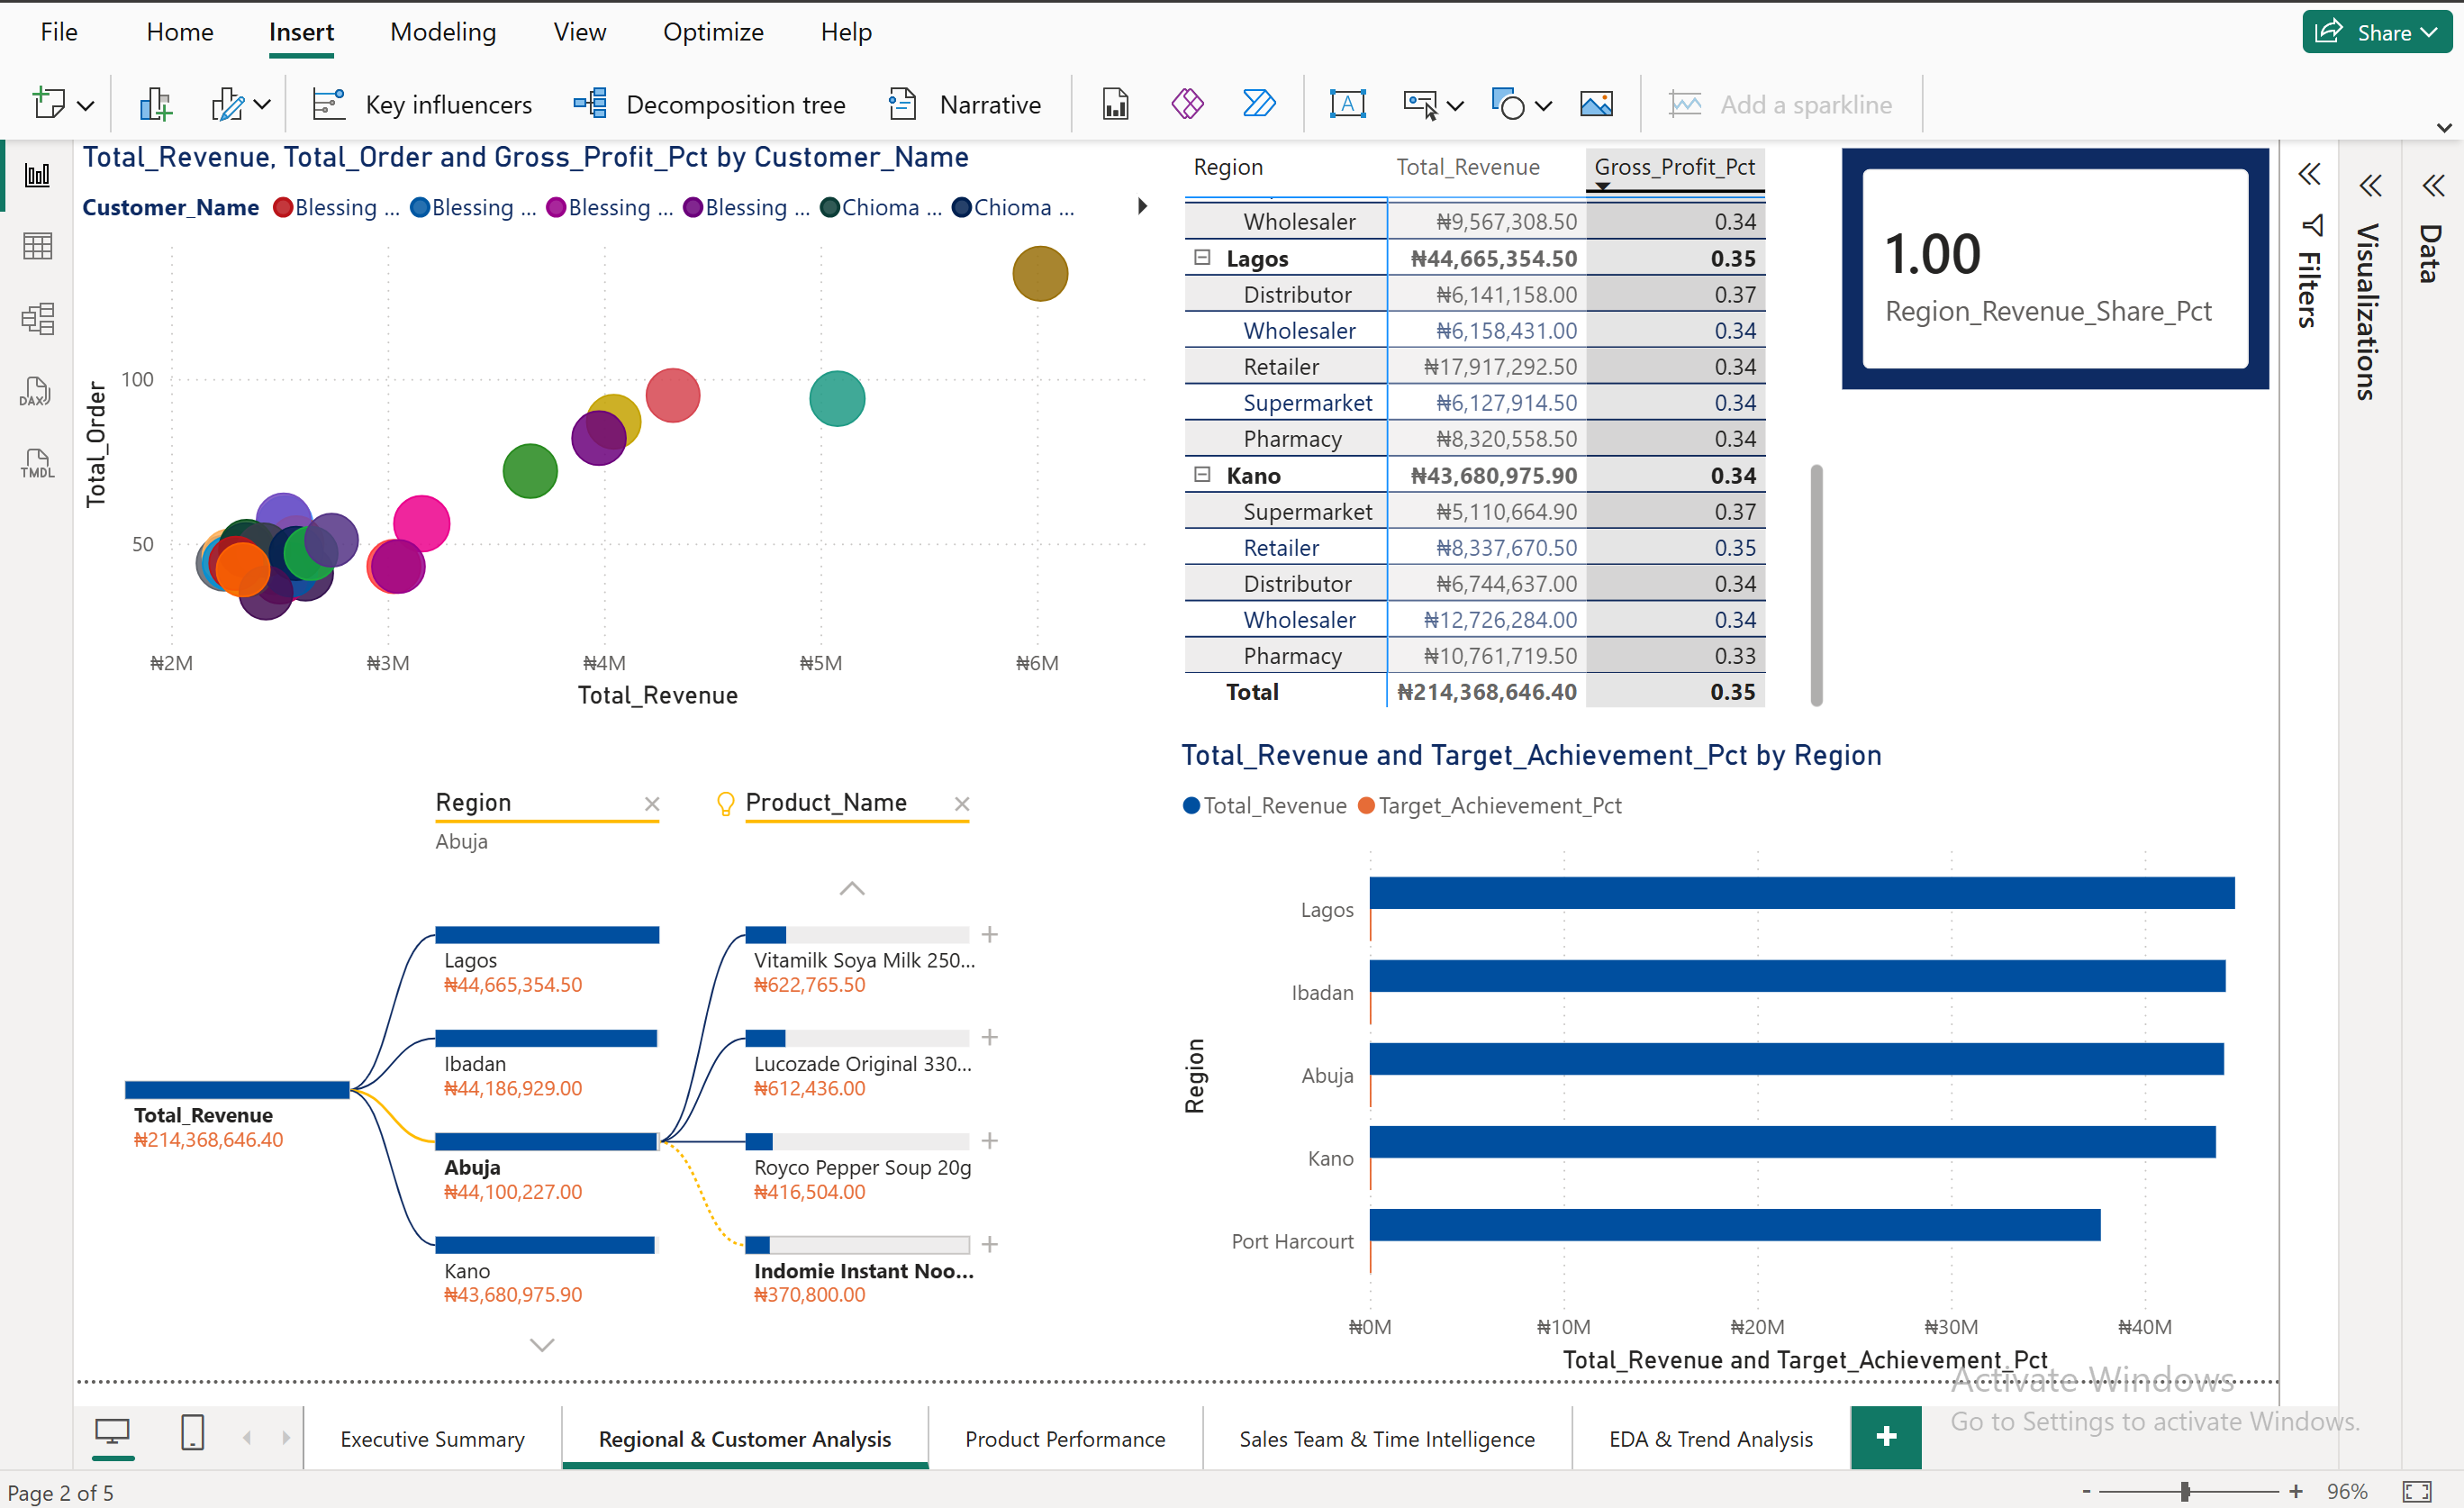

Layout of this report page (visuals, bound fields, positions):
{"tool":"powerbi","page":{"name":"Regional & Customer Analysis","canvas":[1280,720],"ordinal":1},"visuals":[{"type":"pivotTable","fields":{"Rows":["Customers.Region","Customers.Segment"],"Values":["_Measures.Total_Revenue","_Measures.Gross_Profit_Pct"]},"box":[640,0,381.7,334.6],"z":1000},{"type":"scatterChart","fields":{"X":["_Measures.Total_Revenue"],"Y":["_Measures.Total_Order"],"Size":["_Measures.Gross_Profit_Pct"],"Series":["Customers.Customer_Name"]},"box":[0,0,640,335.1],"z":2000},{"type":"decompositionTreeVisual","fields":{"Analyze":["_Measures.Total_Revenue"],"ExplainBy":["Customers.Region","Products.Product_Name","Products.Category"]},"box":[0,360.2,638.3,361.9],"z":3000},{"type":"clusteredBarChart","fields":{"Y":["_Measures.Total_Revenue","_Measures.Target_Achievement_Pct"],"Category":["Customers.Region"]},"box":[638.3,346.8,641.7,373.6],"z":4000},{"type":"cardVisual","fields":{"Data":["_Measures.Region_Revenue_Share_Pct"]},"box":[1021.7,0,258.3,150.6],"z":5000}]}

Visuals, with their boxes on the page's 1280x720 design canvas (x1, y1, x2, y2). These are canvas units, not pixel positions in the 2464x1508 screenshot, which may show the page scaled, cropped or inside an application window:
pivotTable - Customers.Region x Customers.Segment: x1=640 y1=0 x2=1022 y2=335
scatterChart - _Measures.Total_Revenue x _Measures.Total_Order: x1=0 y1=0 x2=640 y2=335
decompositionTreeVisual - _Measures.Total_Revenue x Customers.Region: x1=0 y1=360 x2=638 y2=722
clusteredBarChart - _Measures.Total_Revenue x _Measures.Target_Achievement_Pct: x1=638 y1=347 x2=1280 y2=720
cardVisual - _Measures.Region_Revenue_Share_Pct: x1=1022 y1=0 x2=1280 y2=151
